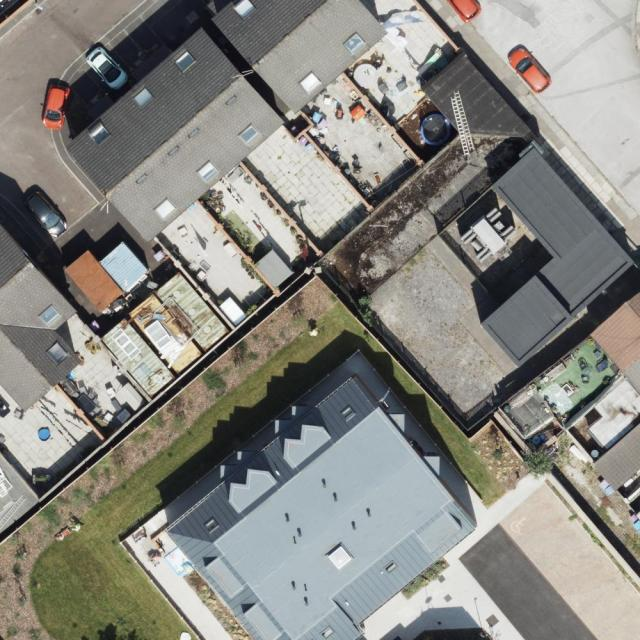roof: (166, 377, 474, 640), (59, 27, 287, 240), (482, 147, 633, 366), (209, 0, 390, 119), (0, 222, 81, 411), (420, 52, 534, 140), (592, 290, 640, 374), (593, 421, 640, 492)
skylight: (130, 86, 154, 112), (89, 124, 115, 147), (299, 71, 323, 95), (343, 30, 366, 54), (336, 403, 361, 425), (38, 303, 61, 326), (44, 344, 68, 366), (155, 197, 177, 221), (198, 161, 222, 183), (237, 125, 260, 146), (235, 0, 257, 20), (176, 52, 196, 70), (204, 516, 221, 533), (383, 560, 399, 576), (319, 625, 334, 639)
